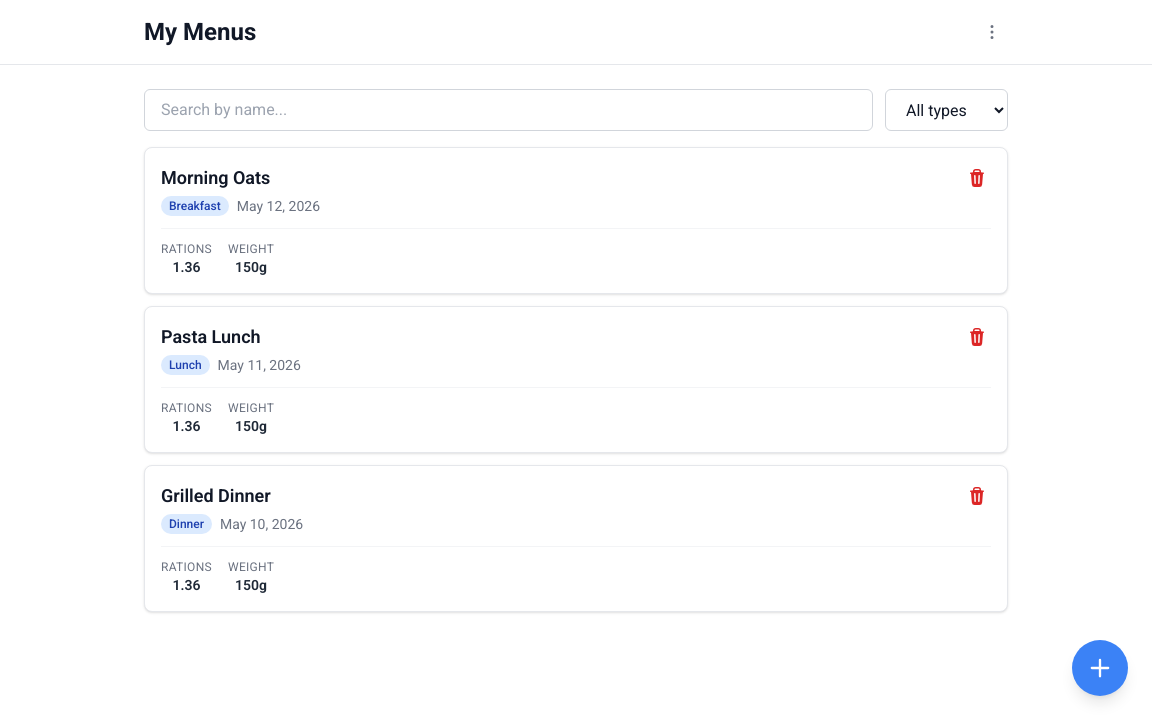
HomePage — name filter (T018) › filters cards as user types a name
This screenshot has width=1152, height=720.
Type "Oats" into the field with placeholder "Search by name..." at (508, 110), box [144,89,873,131]
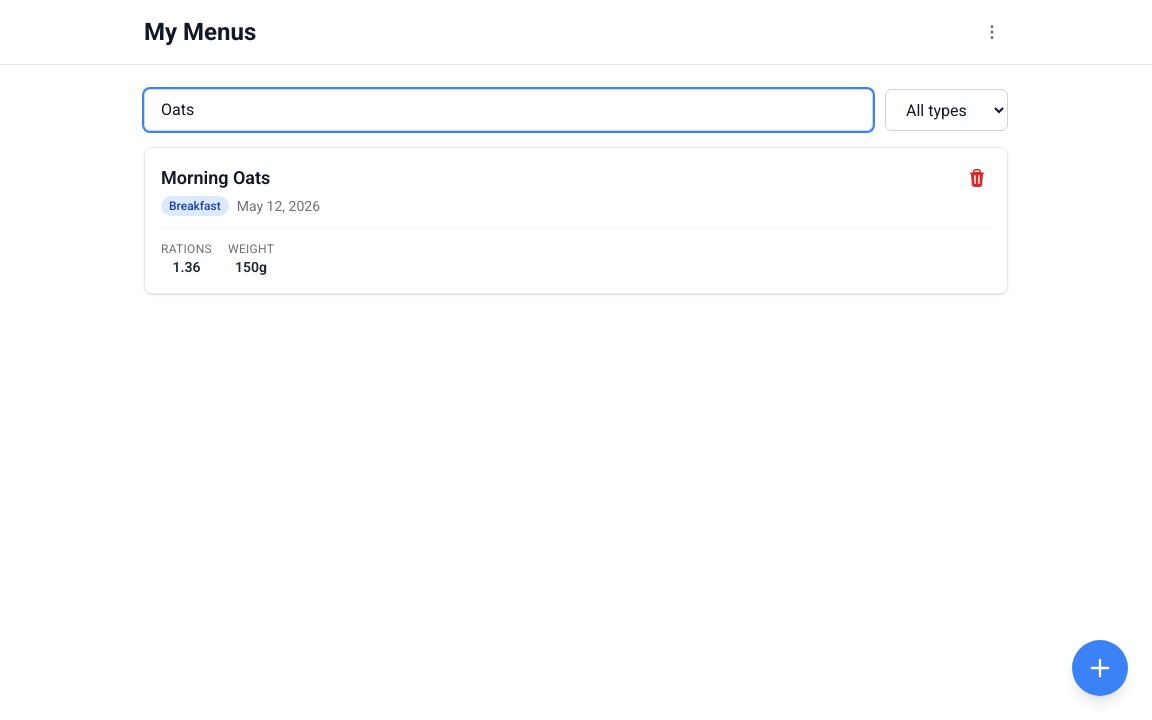
Expected: the heading "Morning Oats" is shown, [161,167,270,188]
Now the link "Pasta Lunch" is gone
